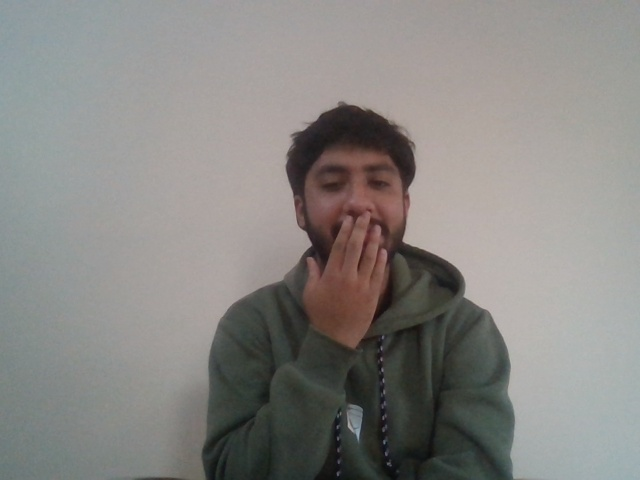Thanks: (288, 207, 445, 326)
